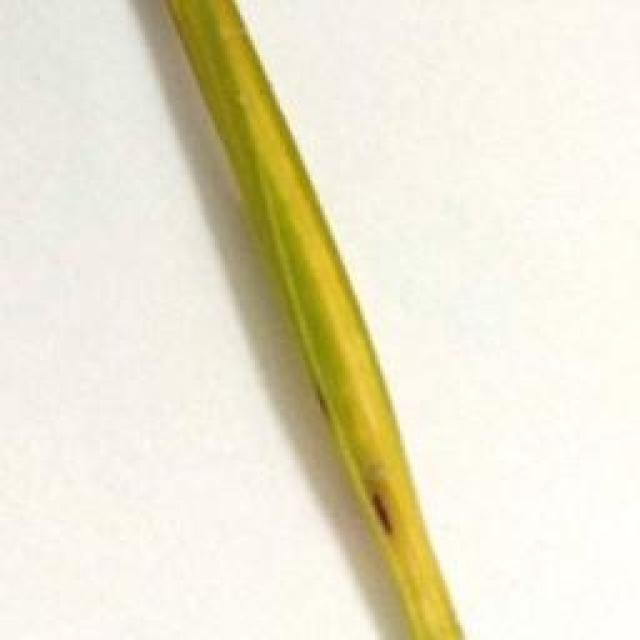Brown_Spot: (363, 464, 398, 566)
